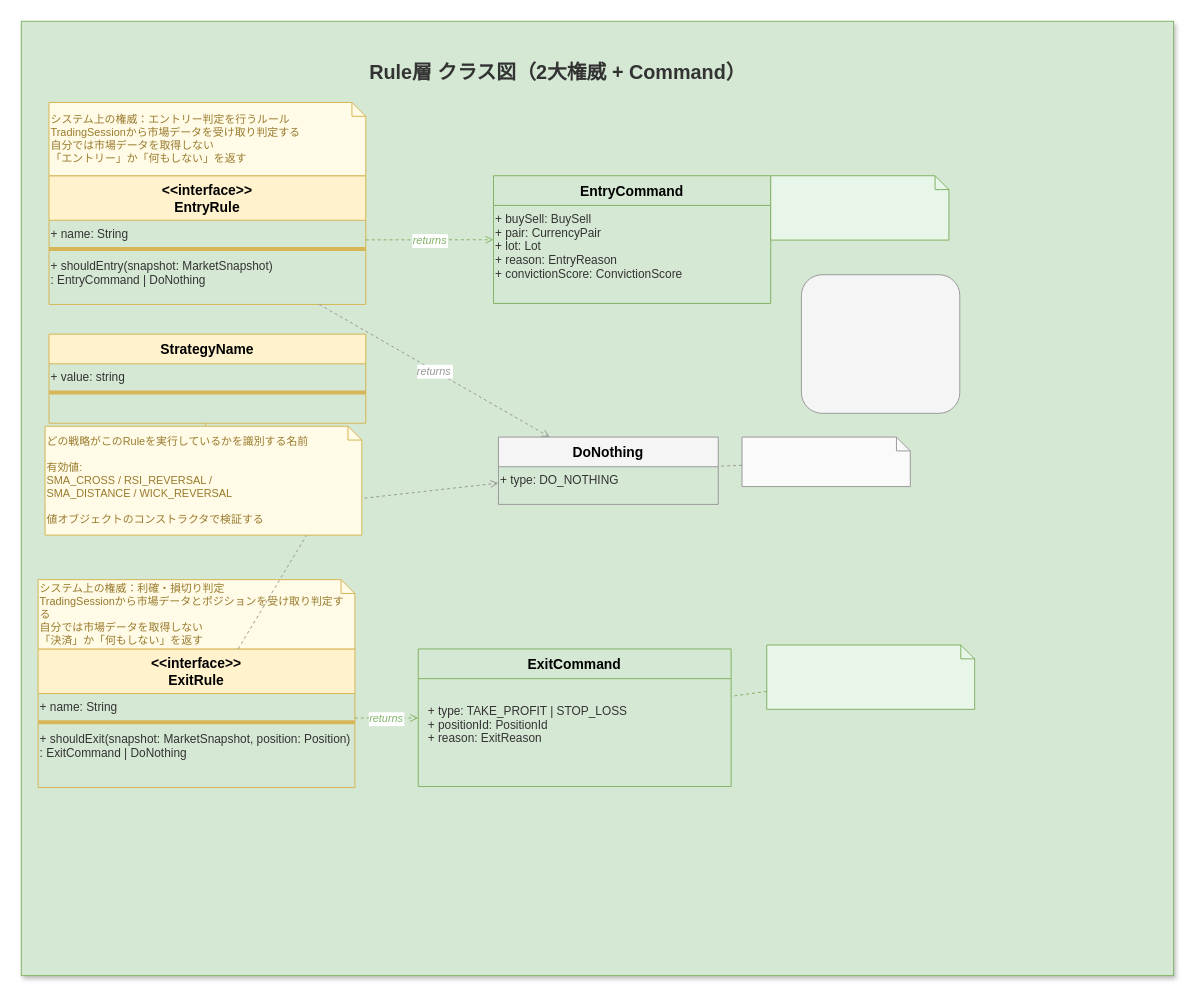
The diagram is 1197 pixels wide and 1000 high, and some of its shapes have lost their labels. Here are the shapes that lost their labels. From the top down, the centre of each, then its label:
point 859,207: エントリーの命令書 通貨ペア・ロット数・ 売買区分・理由を持つ
point 880,343: rule/ EntryRule.ts ExitRule.ts sma-cross/ rsi/ sma-distance/ wick/ shared/
point 825,461: 何もしない 条件未成立の場合に返す
point 870,676: 決済の命令書 利確か損切りかを明示 対象ポジションIDと理由を持つ
